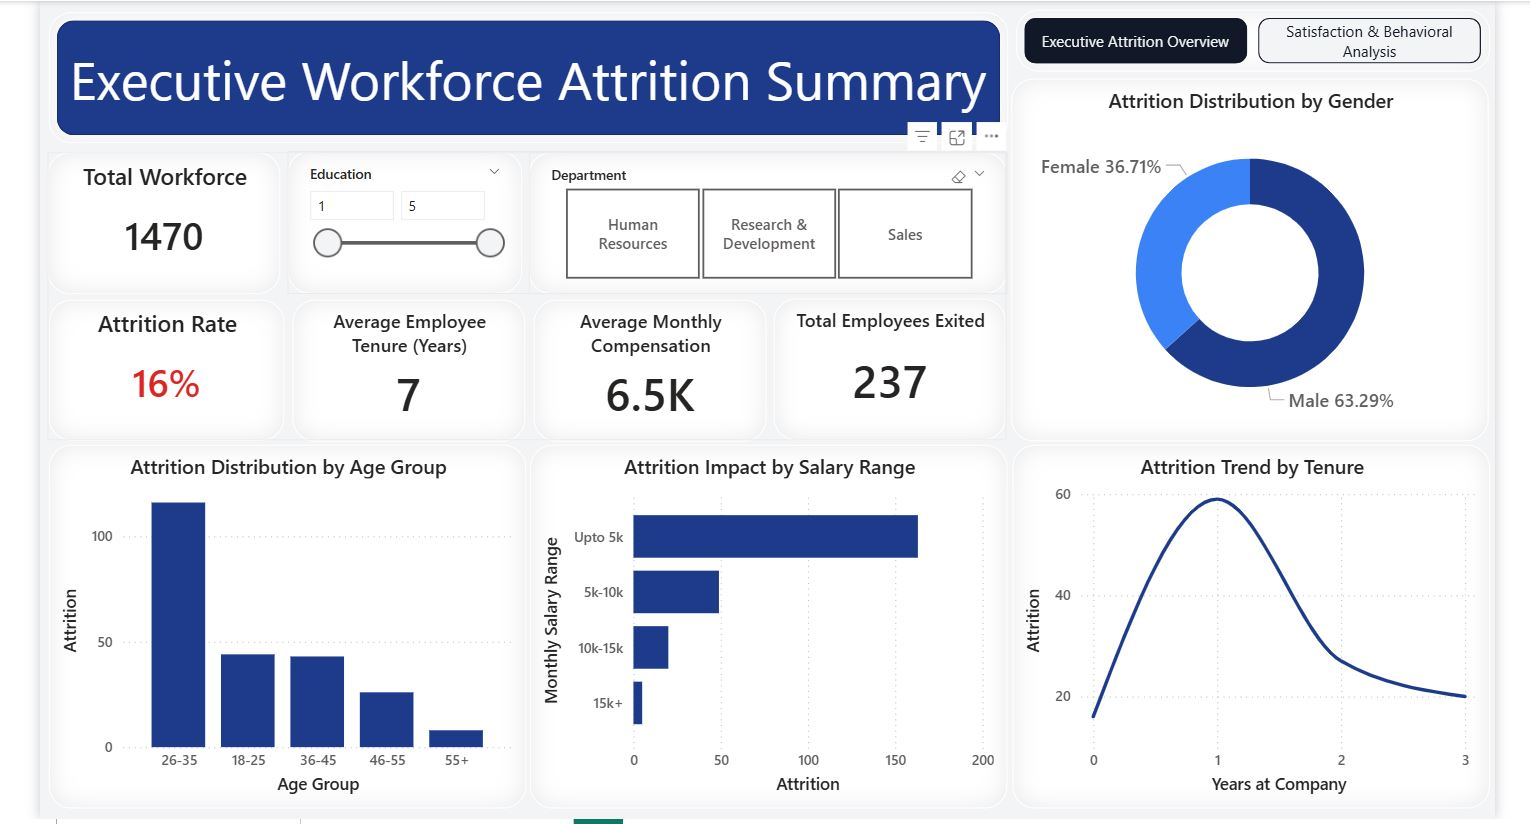

The page's visual inventory and layout, read from the dashboard file:
{"tool":"powerbi","page":{"name":"Executive Attrition Overview","canvas":[1280,720],"ordinal":0},"visuals":[{"type":"pageNavigator","box":[858.3,7.3,416.4,54.5],"z":0,"group":"g2"},{"type":"slicer","fields":{"Values":["HR_Analytics.Education"]},"box":[217.3,132.1,206.2,125.9],"z":0,"group":"g3"},{"type":"card","title":"Average Monthly Compensation","fields":{"Values":["HR_Analytics.Average Salary"]},"box":[433.5,262.3,204.6,124.7],"z":0,"group":"g4"},{"type":"group","id":"g1","title":"Bottom Charts","box":[7.3,390.8,1267.4,320],"z":0},{"type":"barChart","title":"Attrition Impact by Salary Range","fields":{"Y":["Sum(HR_Analytics.Attrition_Flag)"],"Category":["HR_Analytics.SalarySlab"]},"box":[431,390.8,420,320],"z":0,"group":"g1"},{"type":"shape","title":"Attrition Overview Shape","box":[7.3,9.7,843.7,115],"z":1000,"group":"g2"},{"type":"donutChart","title":"Attrition Distribution by Gender","fields":{"Category":["HR_Analytics.Gender"],"Y":["Sum(HR_Analytics.Attrition_Flag)"]},"box":[854.6,68,420,319.6],"z":1000},{"type":"slicer","fields":{"Values":["HR_Analytics.Department"]},"box":[429.3,133,420.9,125.2],"z":1000,"group":"g3"},{"type":"card","title":"Attrition Rate","fields":{"Values":["HR_Analytics.Attrition Rate (%)"]},"box":[7.7,263.1,206.9,123.9],"z":1000,"group":"g4"},{"type":"clusteredColumnChart","title":"Attrition Distribution by Age Group","fields":{"Category":["HR_Analytics.AgeGroup"],"Y":["Sum(HR_Analytics.Attrition_Flag)"]},"box":[7.3,390.8,420,320],"z":1000,"group":"g1"},{"type":"group","id":"g2","title":"Shape & Nevigator","box":[7.3,7.3,1267.4,117.4],"z":2000},{"type":"card","title":"Average Employee Tenure (Years)","fields":{"Values":["HR_Analytics.Average Tenure"]},"box":[221.8,262.3,204.6,124.7],"z":2000,"group":"g4"},{"type":"lineChart","title":"Attrition Trend by Tenure","fields":{"Y":["Sum(HR_Analytics.Attrition_Flag)"],"Category":["HR_Analytics.YearsAtCompany"]},"box":[854.6,390.8,420,320],"z":2000,"group":"g1"},{"type":"group","id":"g3","title":"Slicer","box":[217.3,132.1,632.9,126],"z":3000},{"type":"card","title":"Total Workforce","fields":{"Values":["HR_Analytics.Total Employee"]},"box":[6.1,133,205,125],"z":3000,"group":"g4"},{"type":"card","title":"Total Employees Exited","fields":{"Values":["Sum(HR_Analytics.Attrition_Flag)"]},"box":[645.2,261.8,204.4,125.2],"z":4000,"group":"g4"},{"type":"group","id":"g4","title":"Cards","box":[6.1,133,843.4,254],"z":4001}]}

Visuals, with their boxes on the page's 1280x720 design canvas (x1, y1, x2, y2). These are canvas units, not pixel positions in the 1530x824 screenshot, which may show the page scaled, cropped or inside an application window:
pageNavigator: 858/7/1275/62
slicer - HR_Analytics.Education: 217/132/424/258
"Average Monthly Compensation" card: 434/262/638/387
"Bottom Charts" group: 7/391/1275/711
"Attrition Impact by Salary Range" barChart: 431/391/851/711
"Attrition Overview Shape" shape: 7/10/851/125
"Attrition Distribution by Gender" donutChart: 855/68/1275/388
slicer - HR_Analytics.Department: 429/133/850/258
"Attrition Rate" card: 8/263/215/387
"Attrition Distribution by Age Group" clusteredColumnChart: 7/391/427/711
"Shape & Nevigator" group: 7/7/1275/125
"Average Employee Tenure (Years)" card: 222/262/426/387
"Attrition Trend by Tenure" lineChart: 855/391/1275/711
"Slicer" group: 217/132/850/258
"Total Workforce" card: 6/133/211/258
"Total Employees Exited" card: 645/262/850/387
"Cards" group: 6/133/850/387
